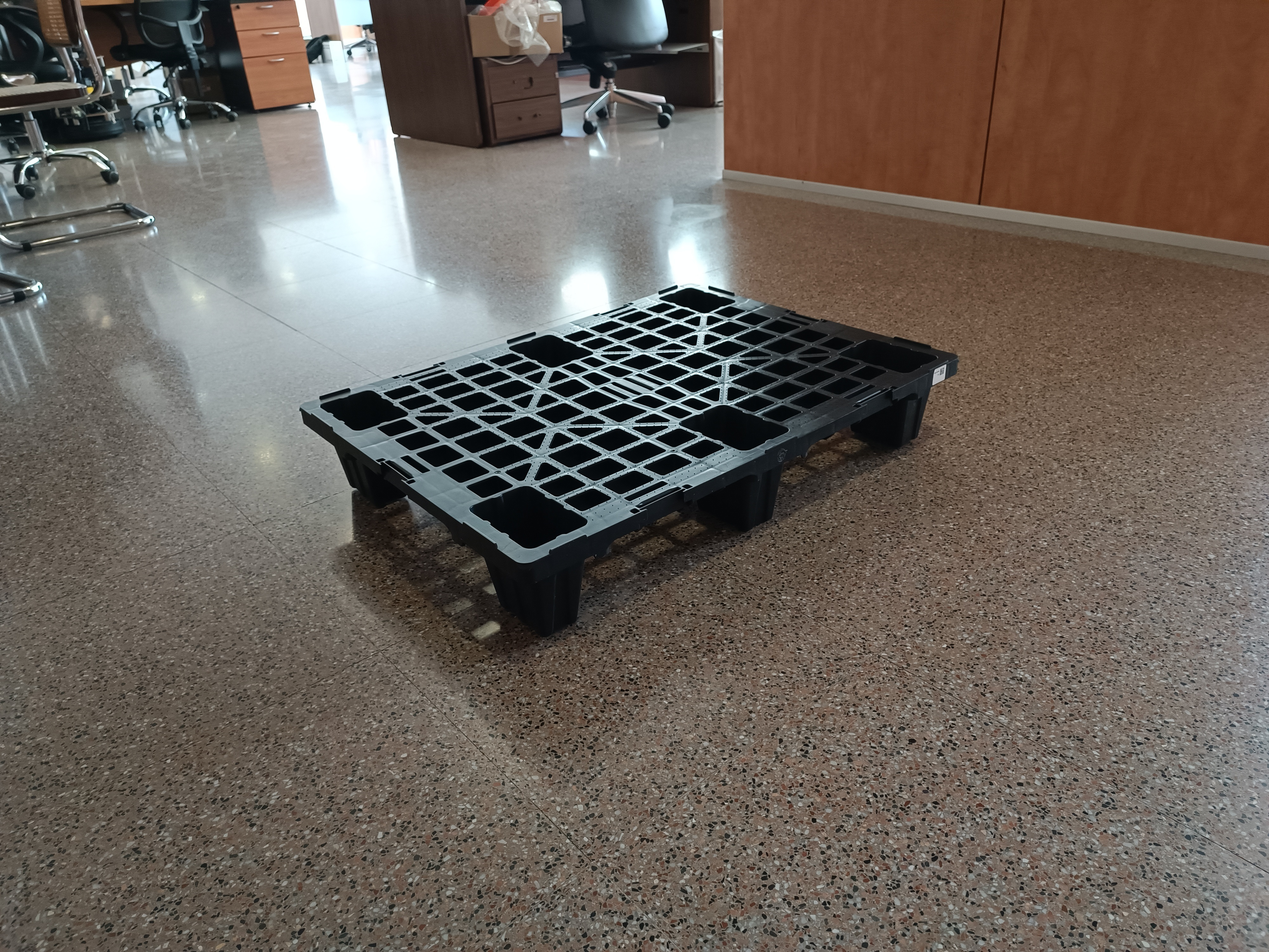block: (489, 538, 586, 643), (330, 438, 411, 510), (728, 443, 784, 541), (891, 363, 945, 450)
front: (531, 351, 958, 647)
hole pallet: (576, 473, 744, 623), (774, 400, 905, 515)
